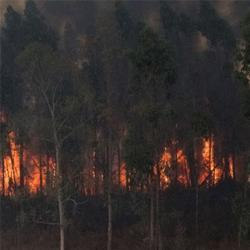fire: (161, 155, 191, 194), (1, 146, 24, 189), (204, 133, 219, 185)
